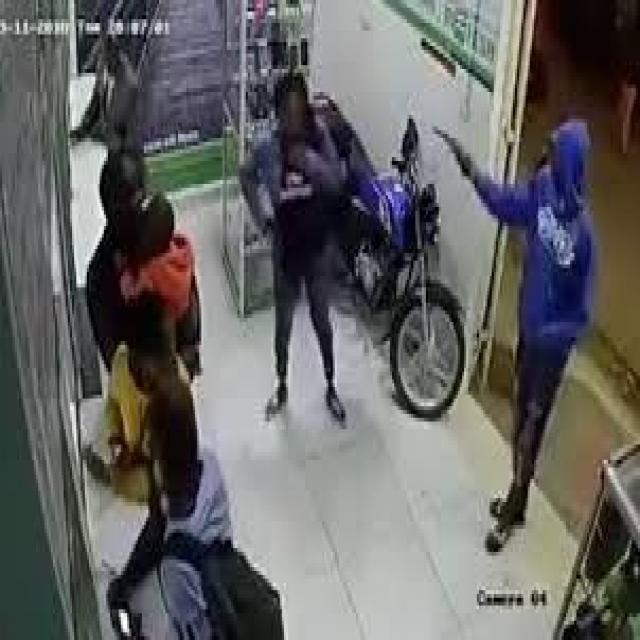weapon: (428, 115, 468, 176)
